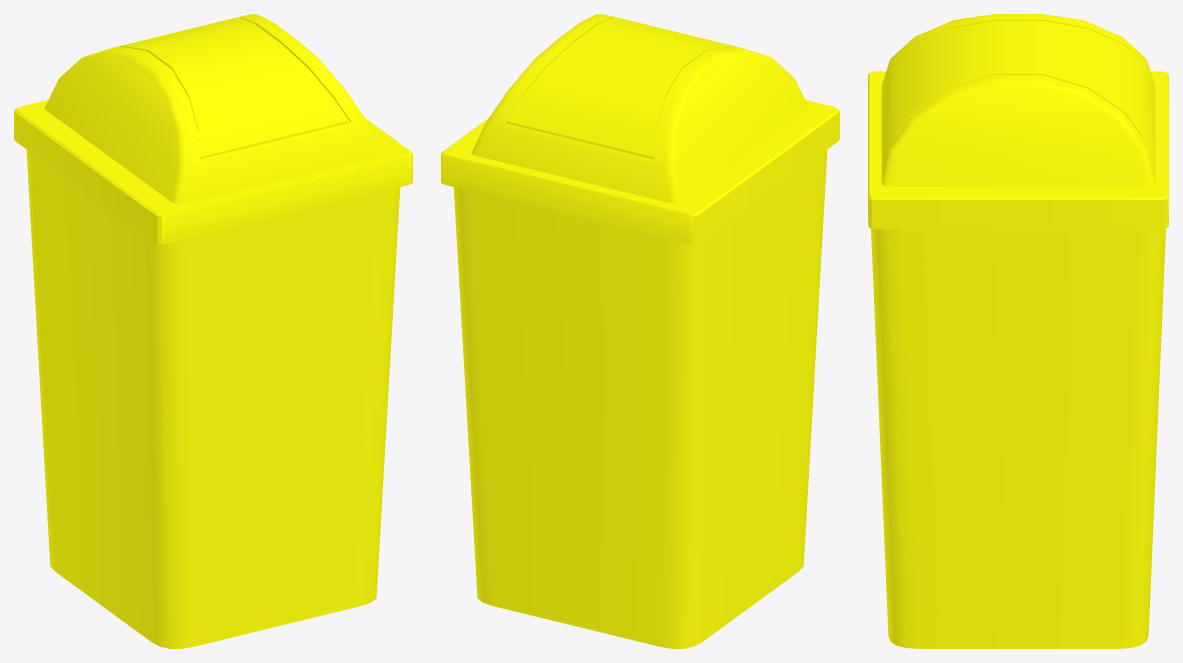
File: SM_GarbageBasket01.glb
3 renders of one model, left to right at view 1: azimuth 30°, elevation 25°; view 2: azimuth 150°, elevation 25°; view 3: azimuth 270°, elevation 25°, orthographic. The views are drawn at different scales.
Parts seen in each view (by area): view 1: SM_GarbageBasket01; view 2: SM_GarbageBasket01; view 3: SM_GarbageBasket01.
Boxes of the visible parts, left/top/right/bottom form: SM_GarbageBasket01: left=14, top=14, right=412, bottom=648; SM_GarbageBasket01: left=441, top=14, right=839, bottom=648; SM_GarbageBasket01: left=868, top=14, right=1168, bottom=648.
Bounding box in the file's own units: 0.3368 × 0.6693 × 0.3339.
1 material, 1 textured.
